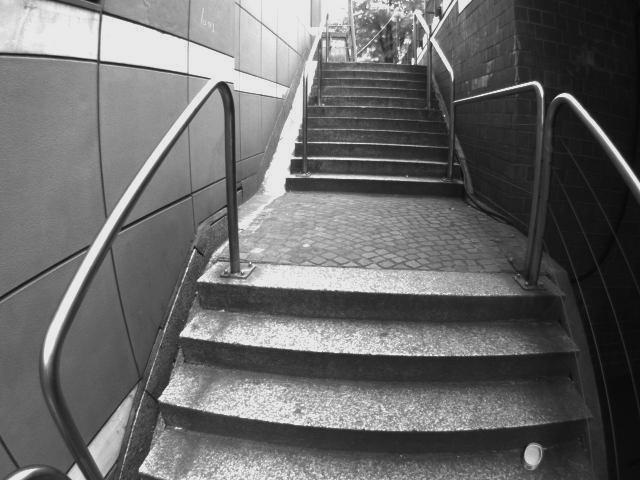Escaleras: (122, 263, 581, 479), (279, 49, 479, 187)
